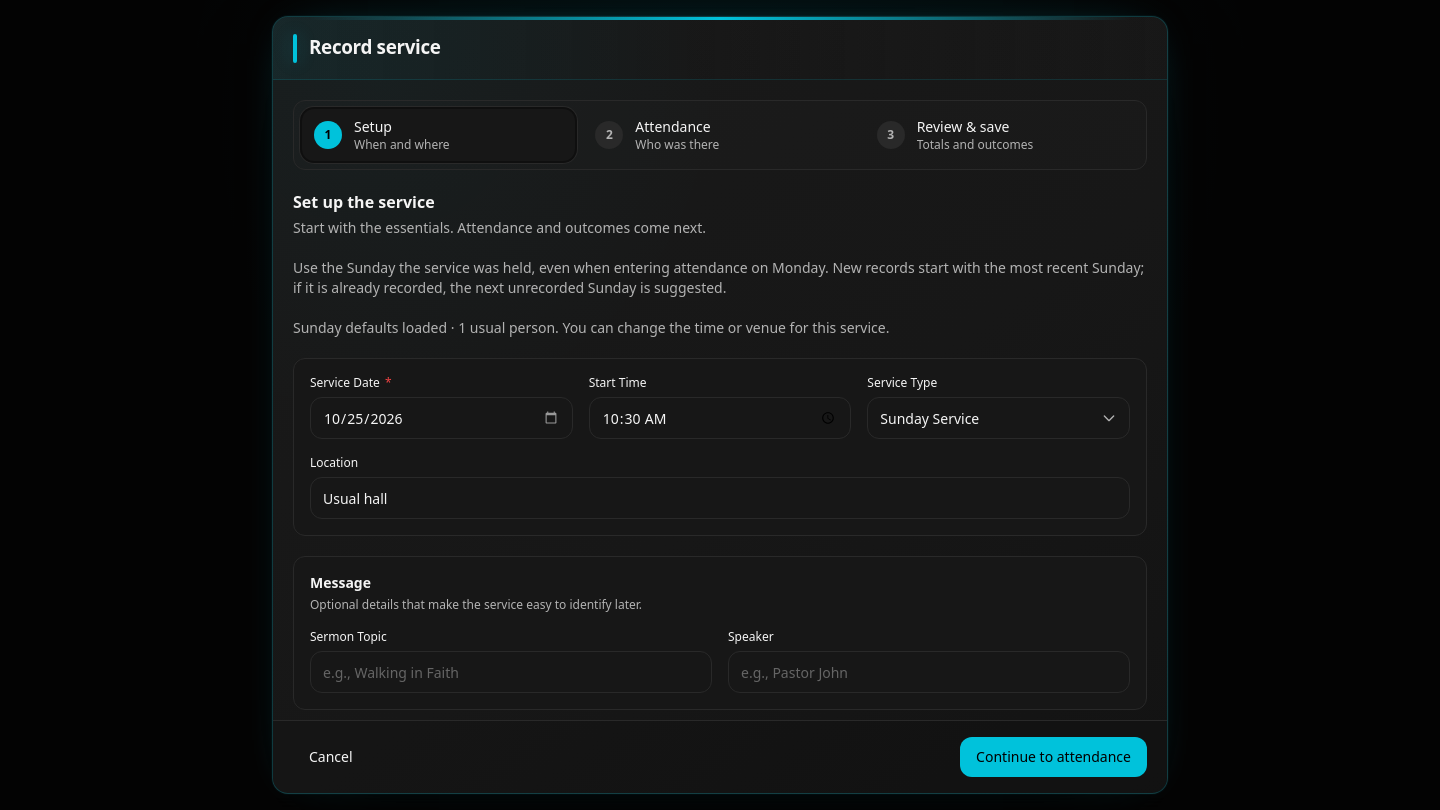
Test: loads Sunday setup and keeps the usual list available without checking it in automatically
The width and height of the screenshot is (1440, 810).
Expected: the field labelled "Location" holds "Usual hall", [311,478,1129,518]
Expected: the time field labelled "Start Time" holds "10:30", [590,398,850,438]
Click the button "2 Attendance Who was there". click: (720, 135)
box: [583,109,857,161]
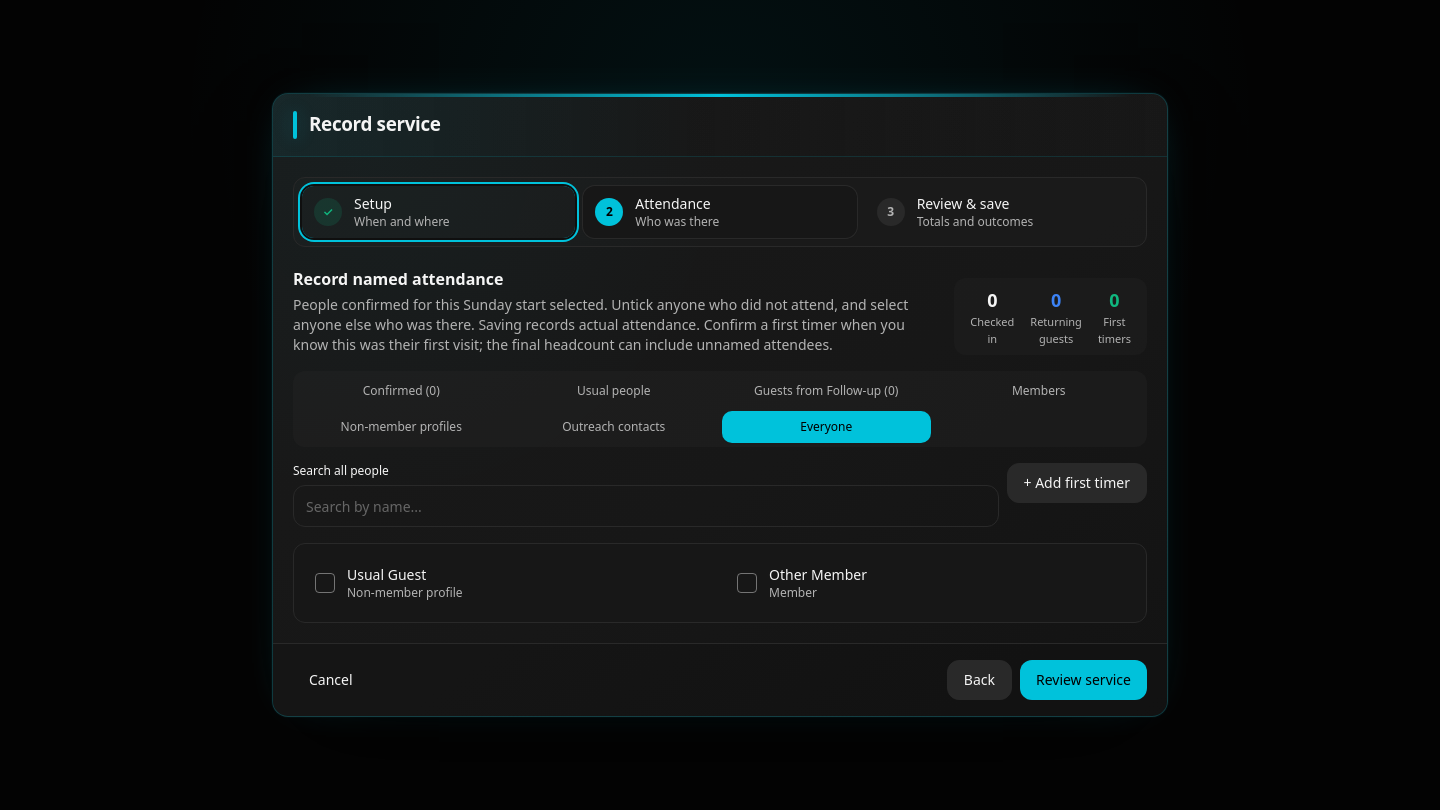
Expected: the button "Review service" is enabled, [1020,660,1147,700]
Click the button "Usual people". click: (614, 391)
box: [510,375,718,407]
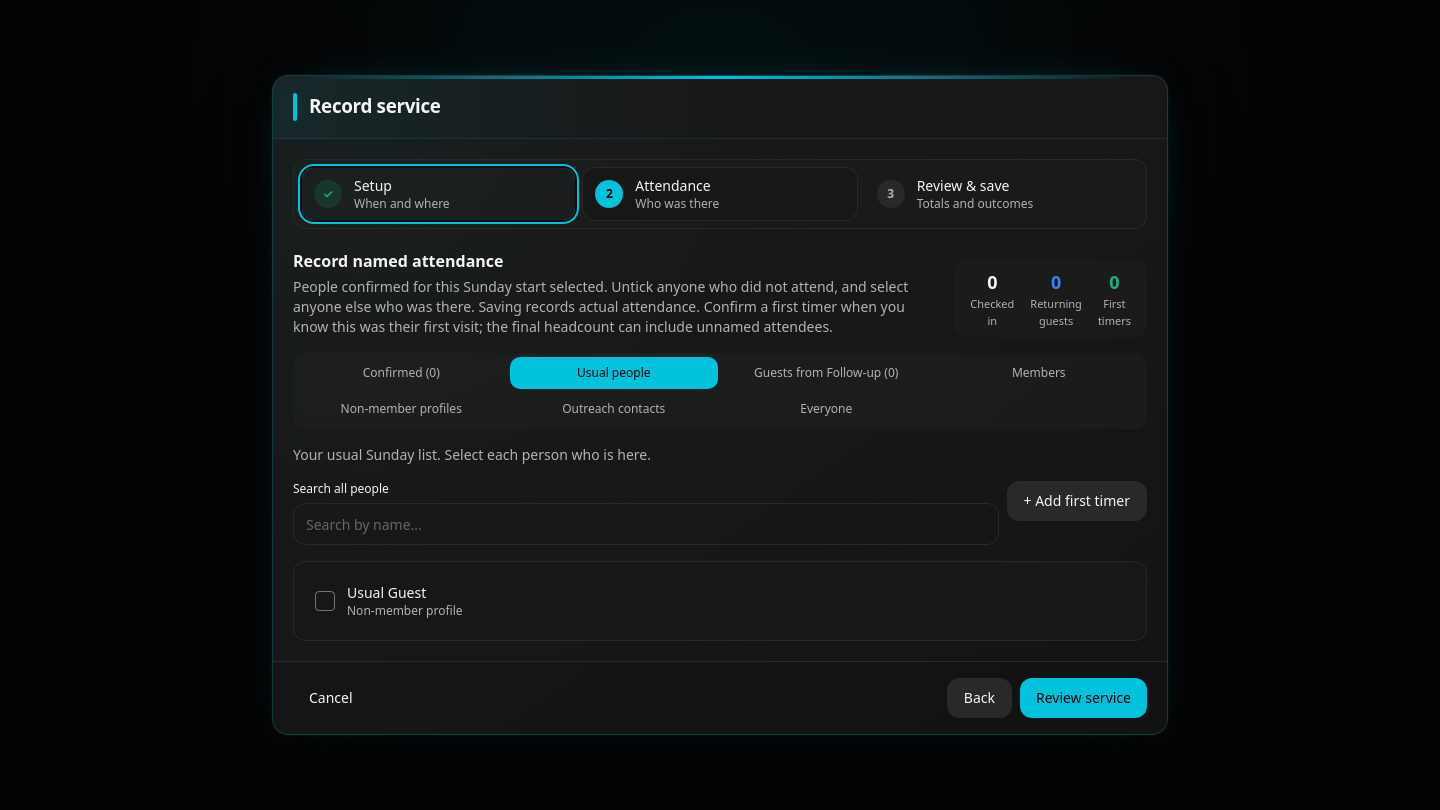
Expected: the button "Other Member Member" is gone
Click the button "Usual Guest Non-member profile". click: (387, 593)
box: [311,579,707,623]
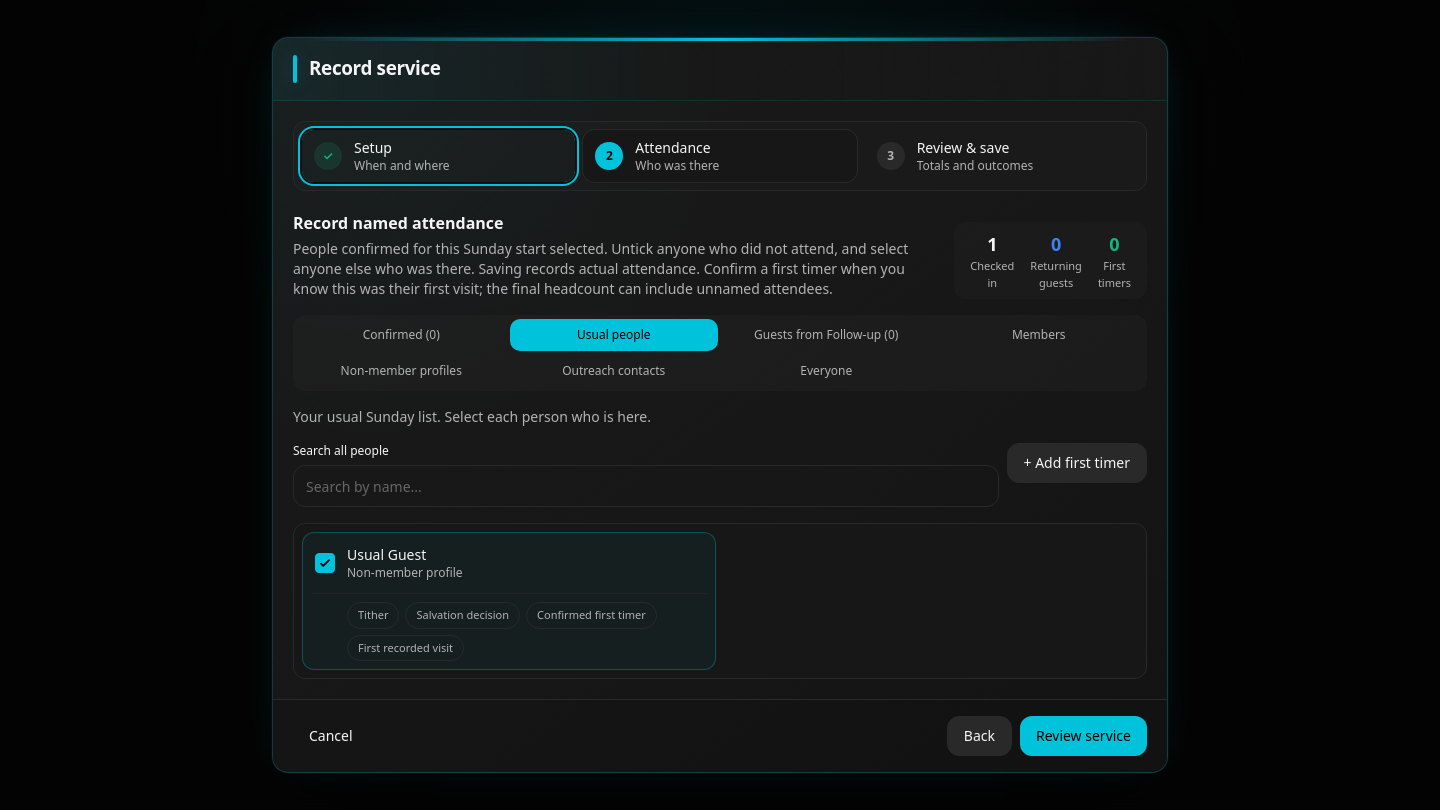
Expected: the button "Usual Guest Non-member profile" is pressed, [311,541,707,585]
Click the button "Everyone". click: (826, 371)
box: [722,355,930,387]
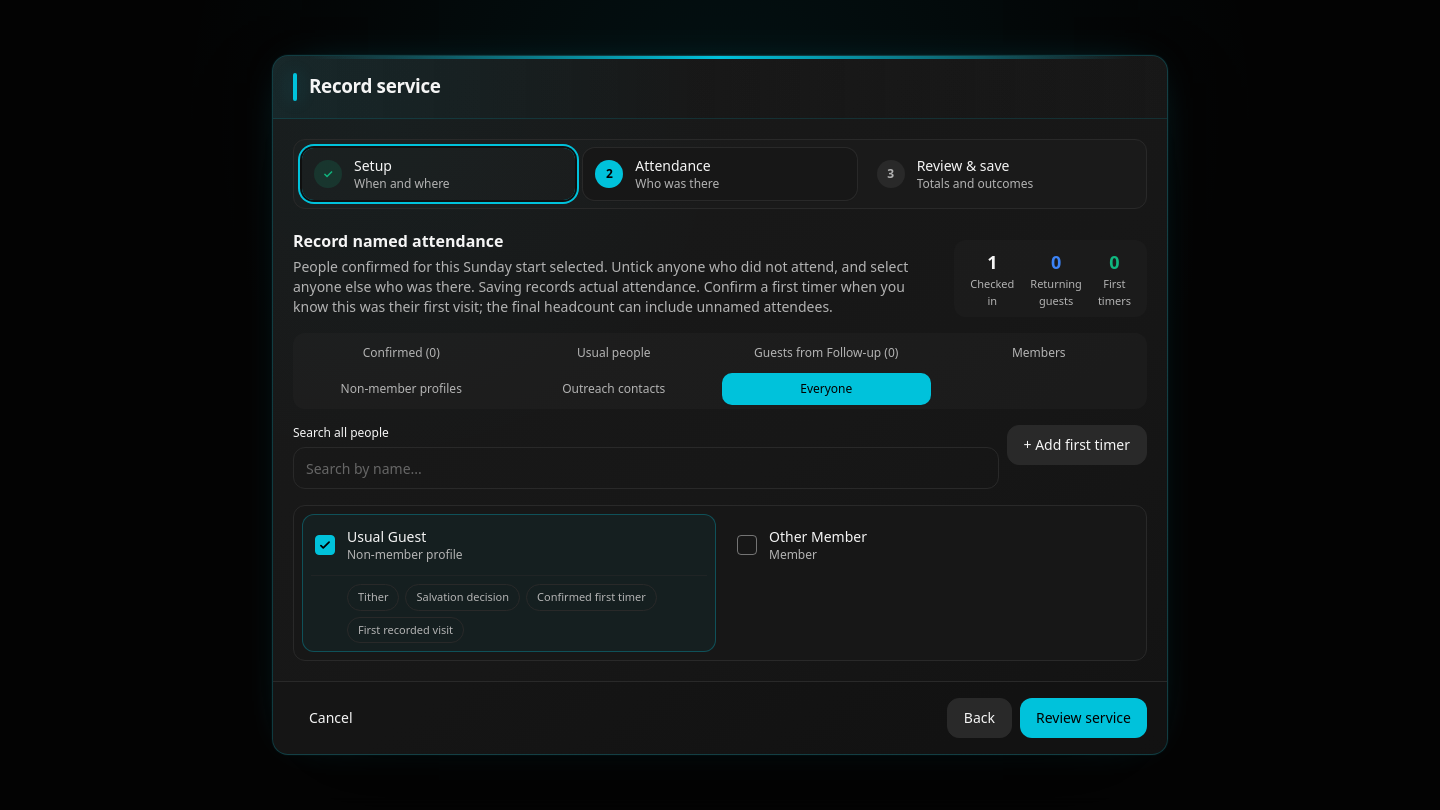
Expected: the button "Other Member Member" is shown, [733,523,1129,567]
